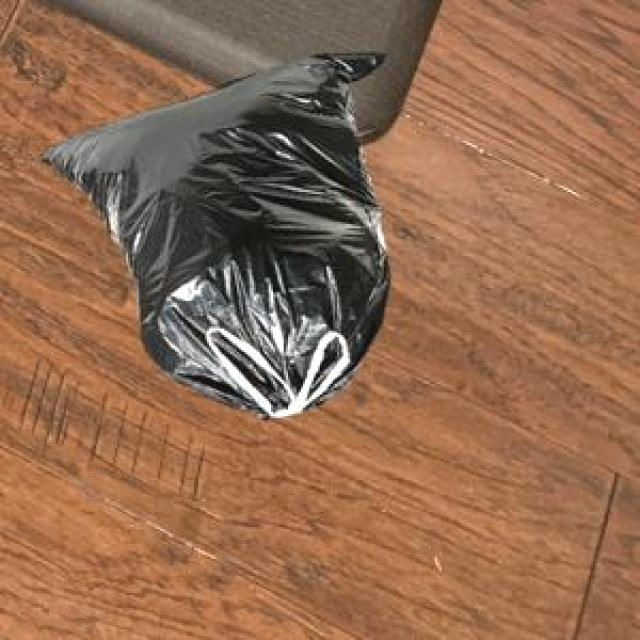Trashbag: (37, 49, 397, 415)
